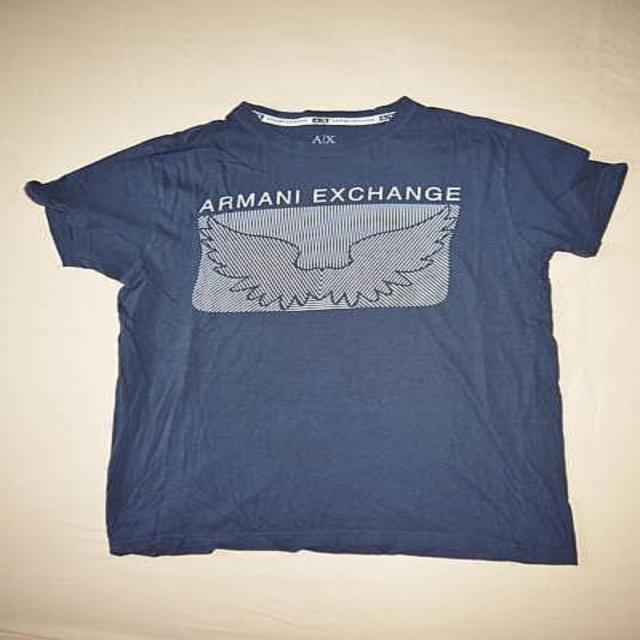T_SHIRT: (16, 84, 634, 572)
